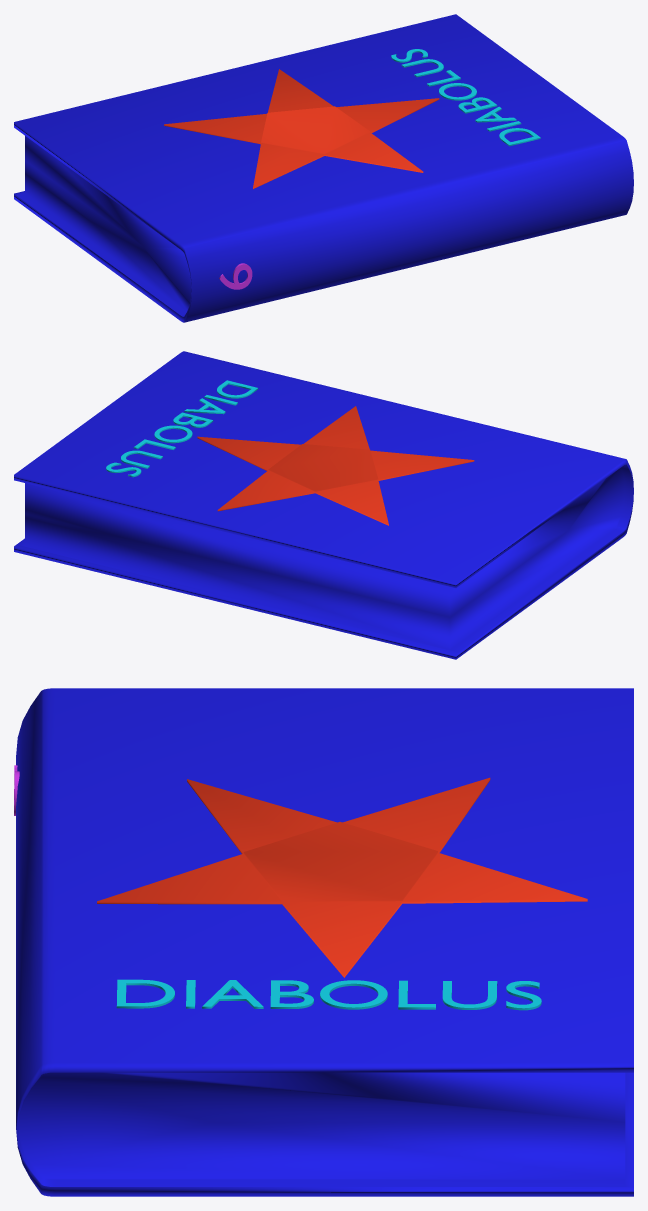
Rendered from Lbook.fbx.
3 views of the same model, one above another, from view 1: azimuth 30°, elevation 25°; view 2: azimuth 150°, elevation 25°; view 3: azimuth 270°, elevation 25° (orthographic). The views are drawn at different scales.
Visible parts, largest first — view 1: Llibro, star, Text, six; view 2: Llibro, star, Text; view 3: Llibro, star, Text.
Part boxes in pixels (bbox=[...]): Llibro: bbox=[14, 14, 633, 322]; star: bbox=[164, 69, 439, 188]; Text: bbox=[391, 49, 540, 146]; six: bbox=[219, 263, 252, 289]; Llibro: bbox=[14, 351, 633, 659]; star: bbox=[197, 406, 474, 525]; Text: bbox=[106, 380, 258, 477]; Llibro: bbox=[16, 688, 633, 1196]; star: bbox=[97, 777, 587, 977]; Text: bbox=[116, 979, 541, 1010].
Bounding box in the file's own units: 30 × 5.16 × 20.98.
